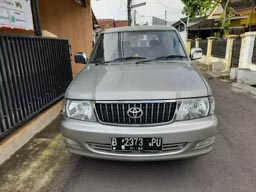plat: (110, 136, 162, 146)
